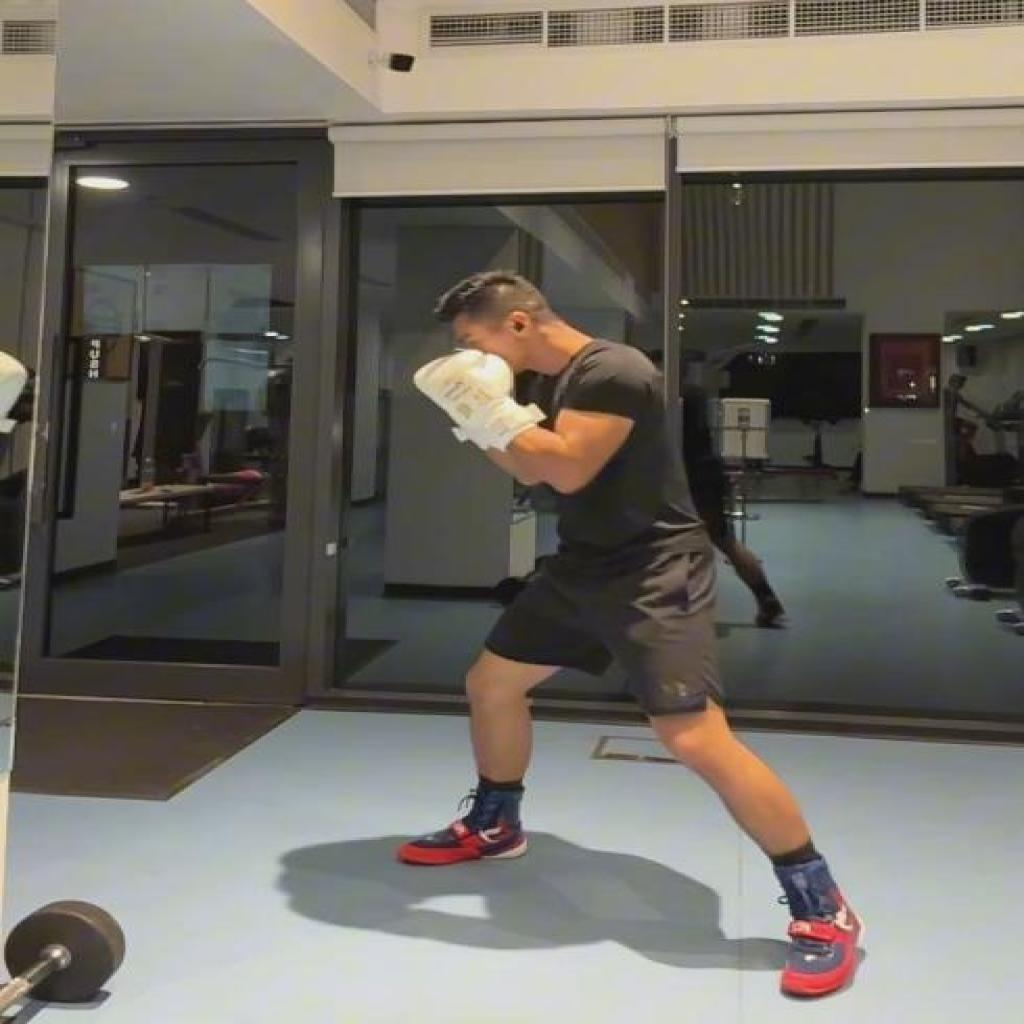no punch: (397, 272, 869, 1003)
